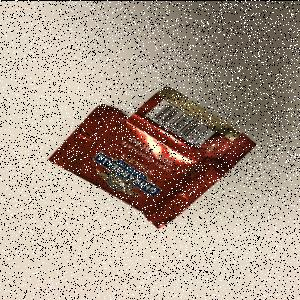Trash: (47, 86, 257, 230)
